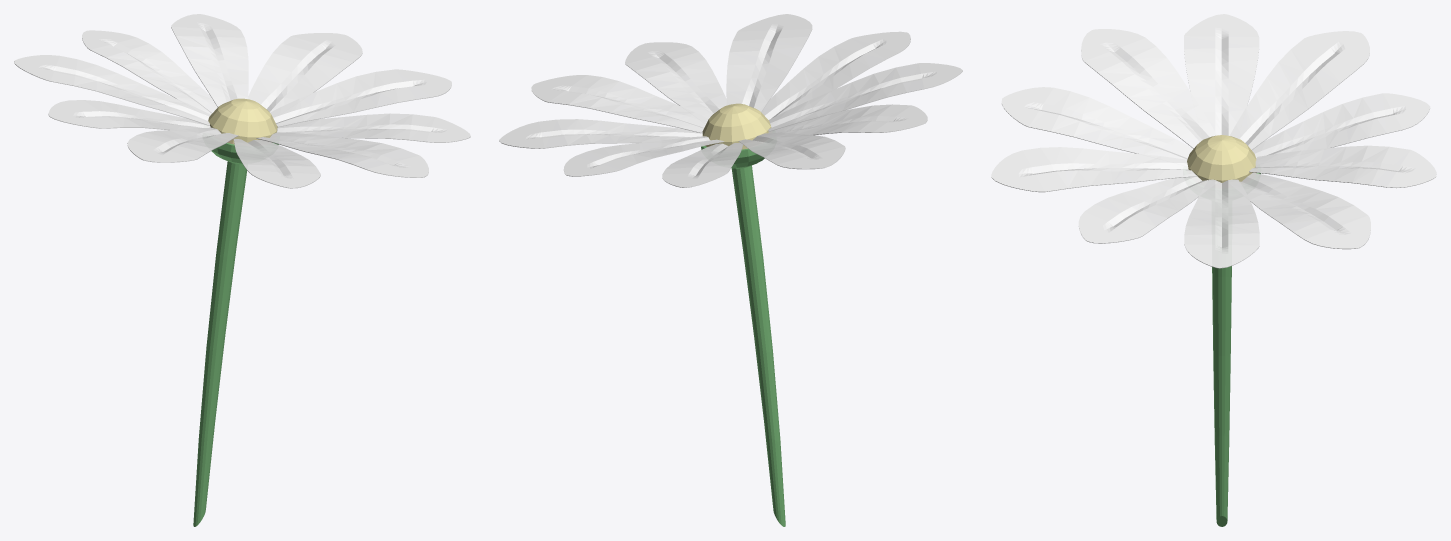
File: flower.e70855f9.glb
3 views of the same model, side by side, from view 1: azimuth 30°, elevation 25°; view 2: azimuth 150°, elevation 25°; view 3: azimuth 270°, elevation 25° (orthographic).
Parts seen in each view (by area): view 1: Cylinder03, Line33, Line36, Line31, Line32, Line38, Line35, Line39, Line37, Line40, Line34, Sphere04; view 2: Cylinder03, Line39, Line36, Line40, Line35, Line34, Line33, Line37, Line31, Line32, Line38, Sphere04; view 3: Line32, Line34, Line37, Line40, Line39, Line31, Line33, Line38, Line36, Line35, Cylinder03, Sphere04.
Part boxes in pixels (bbox=[...]): Cylinder03: bbox=[193, 161, 246, 526]; Line33: bbox=[248, 33, 362, 112]; Line36: bbox=[270, 69, 451, 127]; Line31: bbox=[171, 14, 248, 107]; Line32: bbox=[14, 55, 210, 125]; Line38: bbox=[82, 30, 217, 114]; Line35: bbox=[277, 113, 470, 142]; Line39: bbox=[256, 132, 428, 177]; Line37: bbox=[48, 100, 210, 130]; Line40: bbox=[233, 139, 320, 188]; Line34: bbox=[127, 127, 238, 162]; Sphere04: bbox=[208, 98, 277, 144]; Cylinder03: bbox=[731, 165, 785, 526]; Line39: bbox=[726, 14, 812, 111]; Line36: bbox=[531, 75, 708, 132]; Line40: bbox=[761, 31, 910, 119]; Line35: bbox=[625, 42, 726, 118]; Line34: bbox=[768, 63, 962, 131]; Line33: bbox=[499, 119, 702, 148]; Line37: bbox=[768, 104, 927, 135]; Line31: bbox=[563, 136, 724, 176]; Line32: bbox=[738, 133, 845, 169]; Line38: bbox=[662, 142, 743, 187]; Sphere04: bbox=[702, 103, 771, 149]; Line32: bbox=[1229, 31, 1369, 149]; Line34: bbox=[1081, 29, 1216, 148]; Line37: bbox=[1184, 14, 1259, 135]; Line40: bbox=[1001, 87, 1193, 159]; Line39: bbox=[991, 147, 1197, 192]; Line31: bbox=[1249, 145, 1436, 188]; Line33: bbox=[1240, 172, 1370, 249]; Line38: bbox=[1252, 93, 1430, 158]; Line36: bbox=[1184, 179, 1259, 268]; Line35: bbox=[1078, 176, 1207, 243]; Cylinder03: bbox=[1212, 266, 1231, 526]; Sphere04: bbox=[1187, 135, 1256, 182].
Size of the model in its own units: 22.82 by 24.3 by 22.12.
